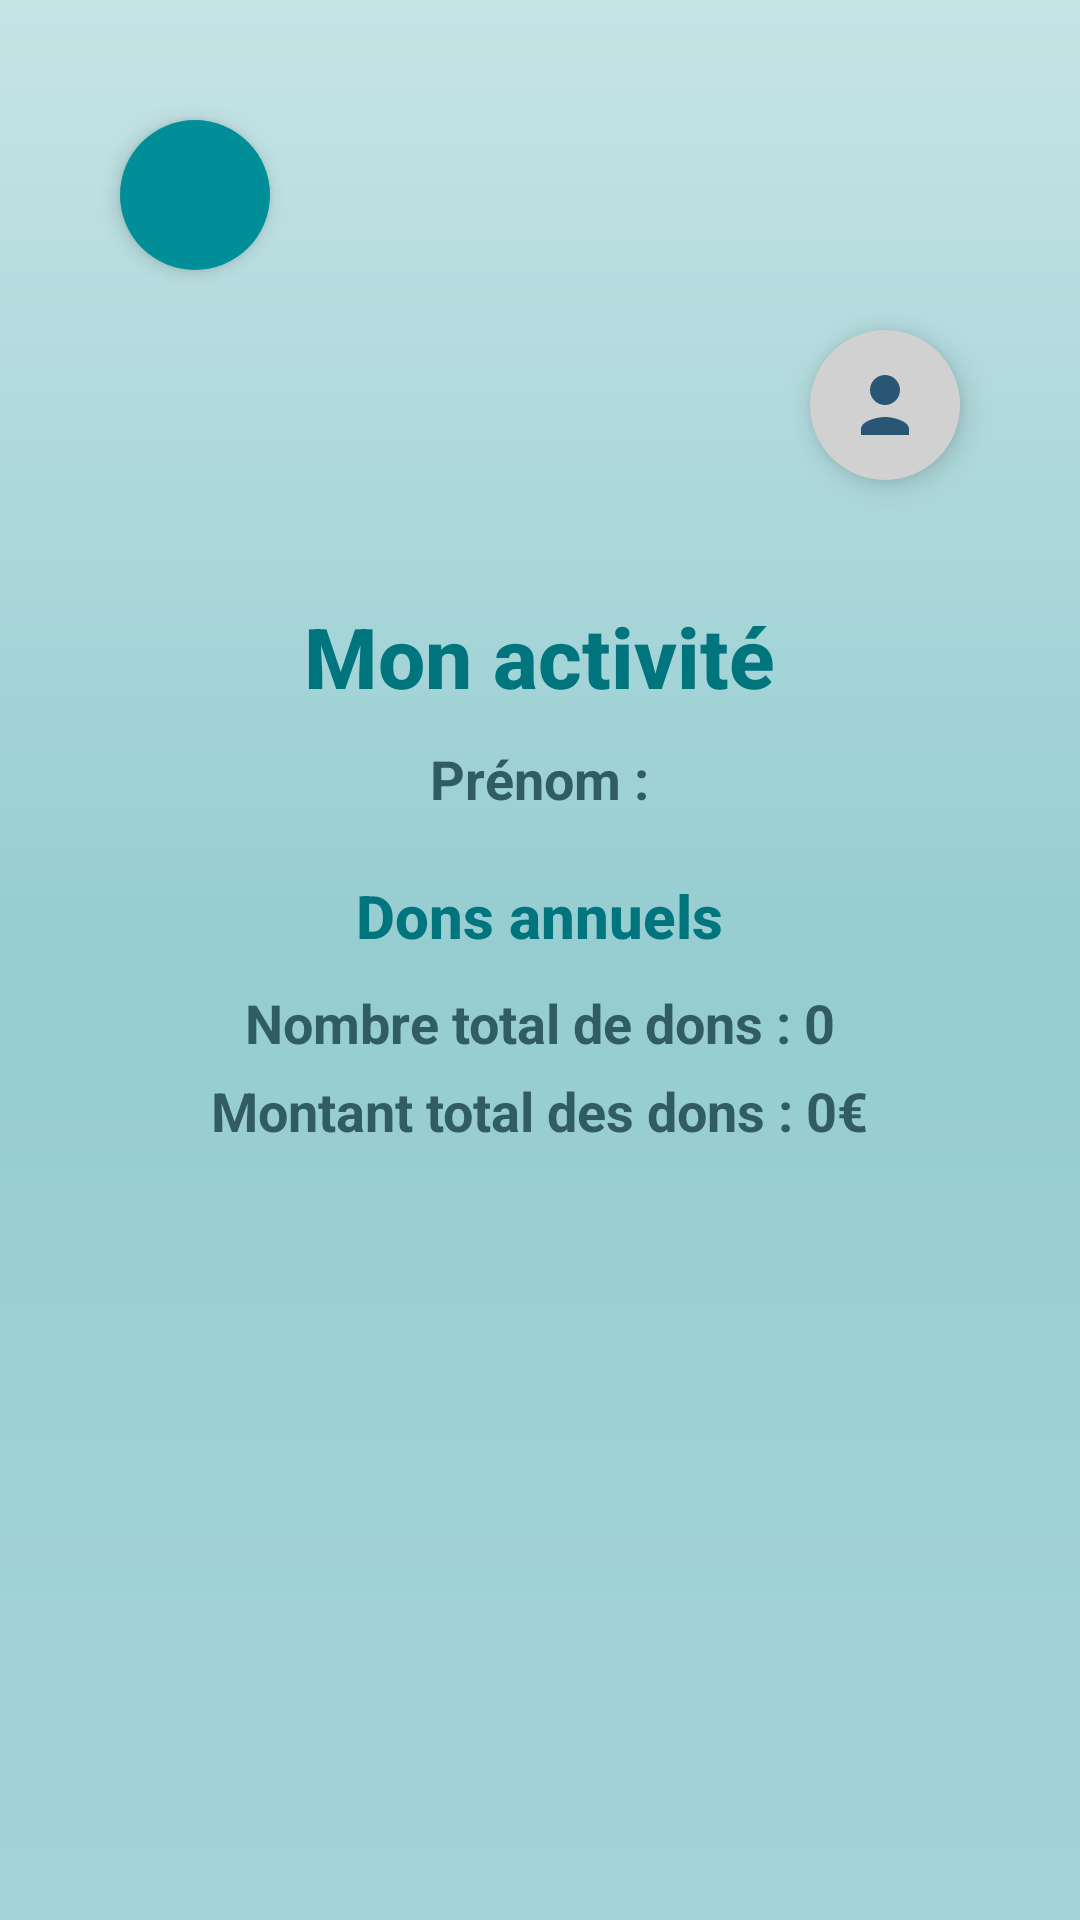

Icons on this 1080*1920 Android screen, each with its box as (x1, y1, x2, y2):
Profil: (810, 330, 960, 480)
